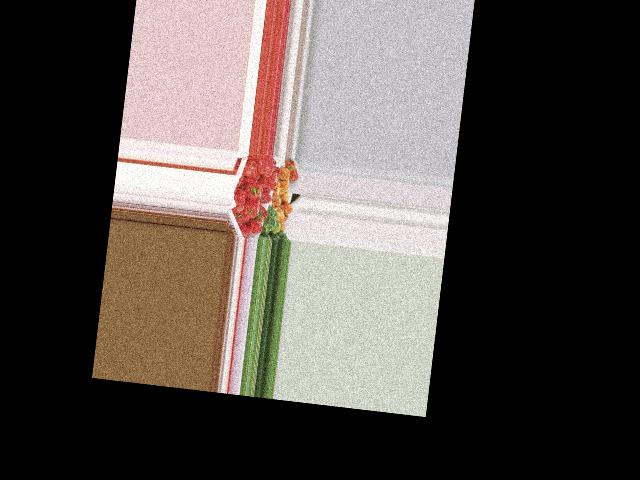bell_pepper: (230, 187, 247, 213)
